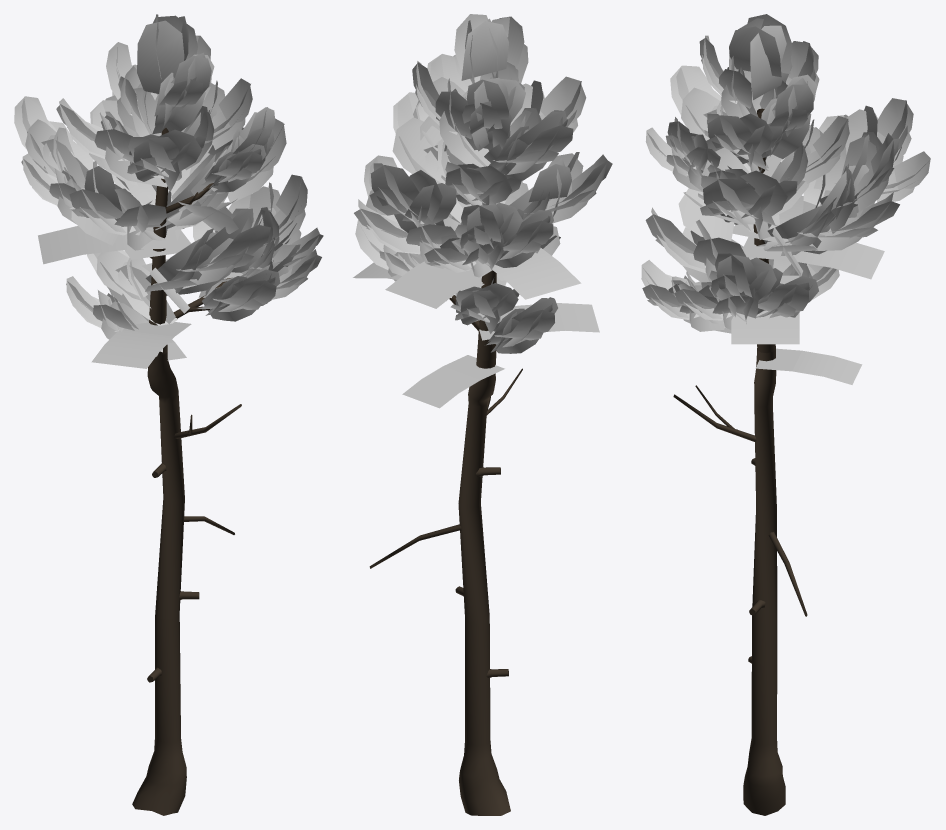
The model's file is Pine_M.B.Z1.fbx.
The picture shows the model from 3 angles, left to right: view 1: azimuth 30°, elevation 25°; view 2: azimuth 150°, elevation 25°; view 3: azimuth 270°, elevation 25°; orthographic projection.
Visible parts, largest first — view 1: Pine_M_B_Z1; view 2: Pine_M_B_Z1; view 3: Pine_M_B_Z1.
Boxes of the visible parts, x1,y1,x2,y2 form: Pine_M_B_Z1: (14,14,323,815); Pine_M_B_Z1: (353,14,612,815); Pine_M_B_Z1: (641,14,930,815).
Size of the model in its own units: 368 by 1179 by 390.
